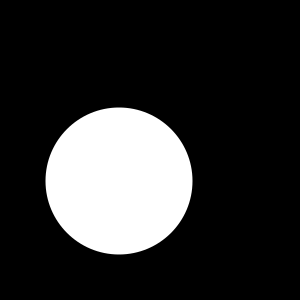rectangle: (46, 108, 192, 255)
